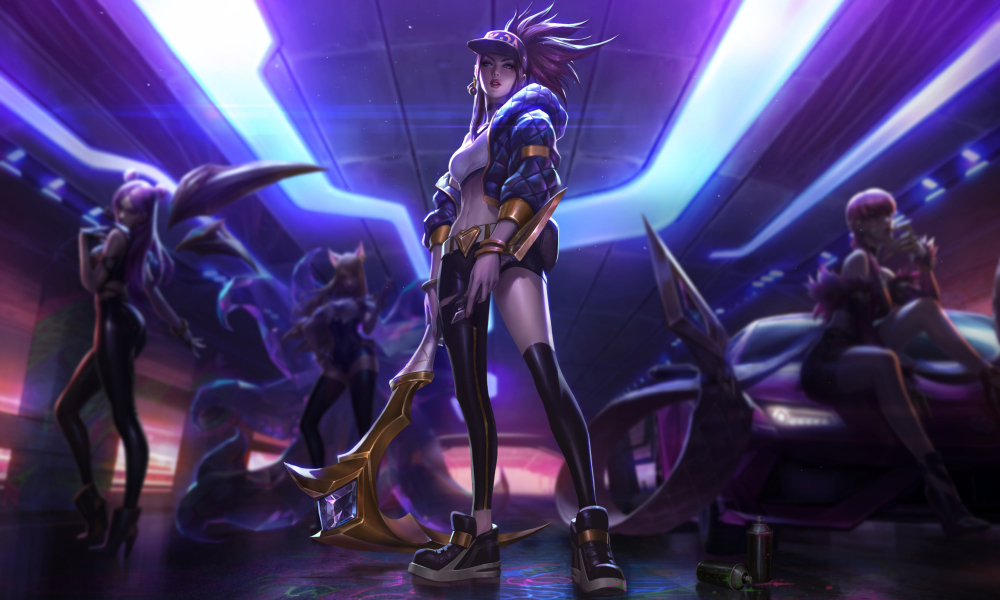face: (459, 1, 613, 108), (837, 181, 911, 256), (96, 168, 165, 231), (316, 237, 378, 298)
